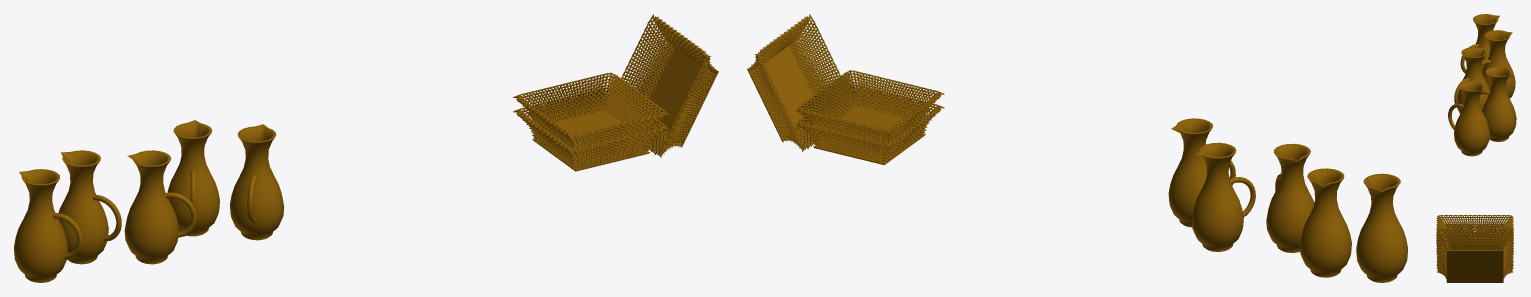
Rendered from tavern_172.gltf.
3 renders of one model, left to right at view 1: azimuth 30°, elevation 25°; view 2: azimuth 150°, elevation 25°; view 3: azimuth 270°, elevation 25°, orthographic. The views are drawn at different scales.
Visible parts, largest first — view 1: Box123_Material #170_0.025; view 2: Box123_Material #170_0.025; view 3: Box123_Material #170_0.025.
Boxes of the visible parts, left/top/right/bottom form: Box123_Material #170_0.025: left=14, top=14, right=718, bottom=282; Box123_Material #170_0.025: left=747, top=14, right=1407, bottom=282; Box123_Material #170_0.025: left=1436, top=14, right=1516, bottom=282.
Size of the model in its own units: 54.88 by 7.79 by 8.54.
